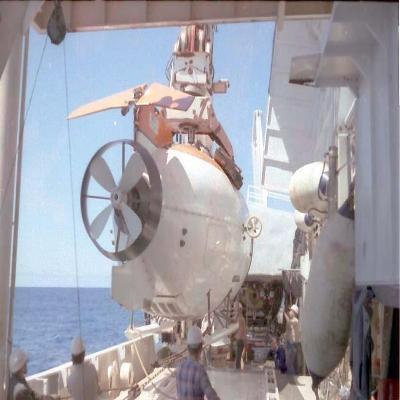photos_negatives: (0, 3, 400, 400)
